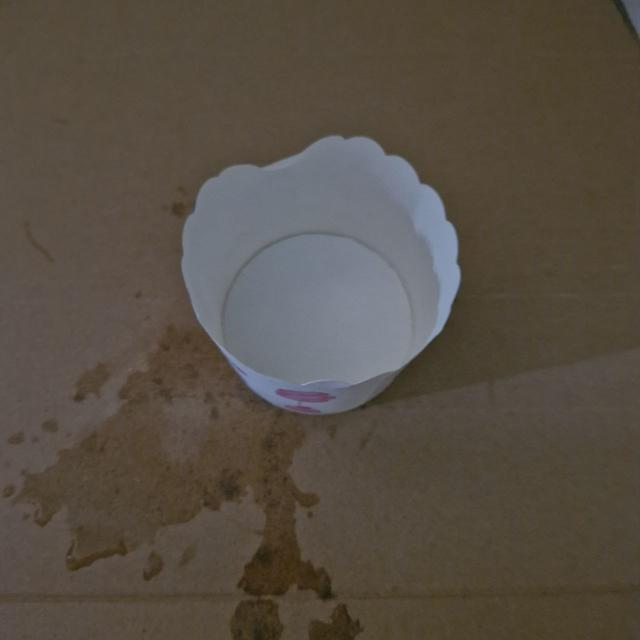paper: (176, 118, 468, 424)
